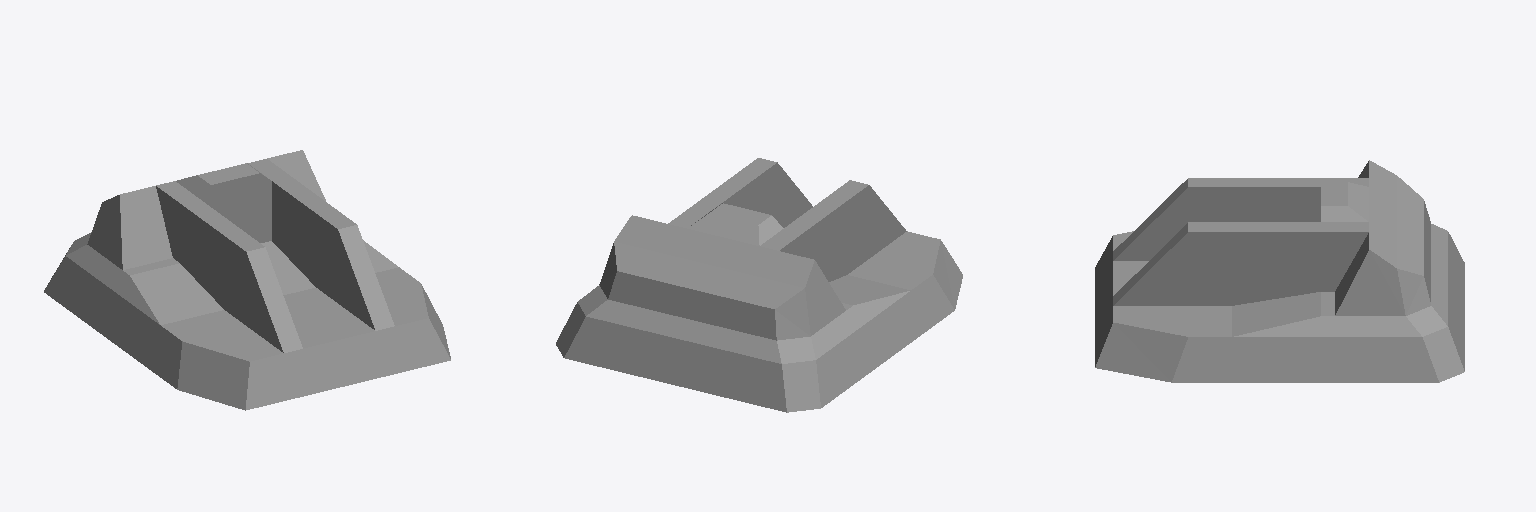
File: frigate_v1_turret_002.obj
3 renders of one model, left to right at view 1: azimuth 30°, elevation 25°; view 2: azimuth 150°, elevation 25°; view 3: azimuth 270°, elevation 25°, orthographic.
Visible parts, largest first — view 1: protoTurret_001_low; view 2: protoTurret_001_low; view 3: protoTurret_001_low.
Boxes of the visible parts, x1=… form: protoTurret_001_low: x1=44, y1=150, x2=450, y2=410; protoTurret_001_low: x1=556, y1=158, x2=962, y2=412; protoTurret_001_low: x1=1095, y1=160, x2=1464, y2=382.
Size of the model in its own units: 19.84 by 8.82 by 23.92.